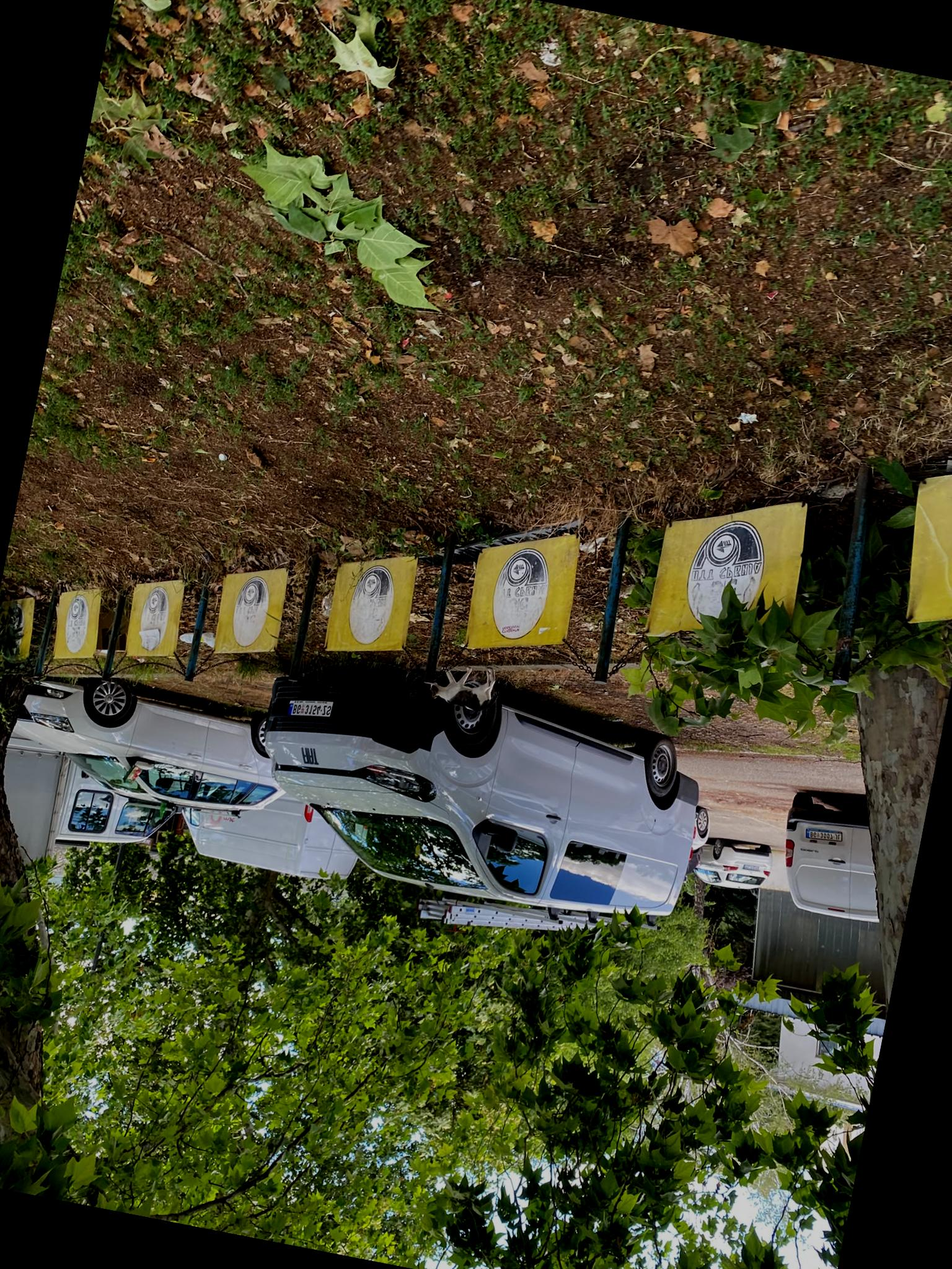macka: (427, 657, 507, 714)
